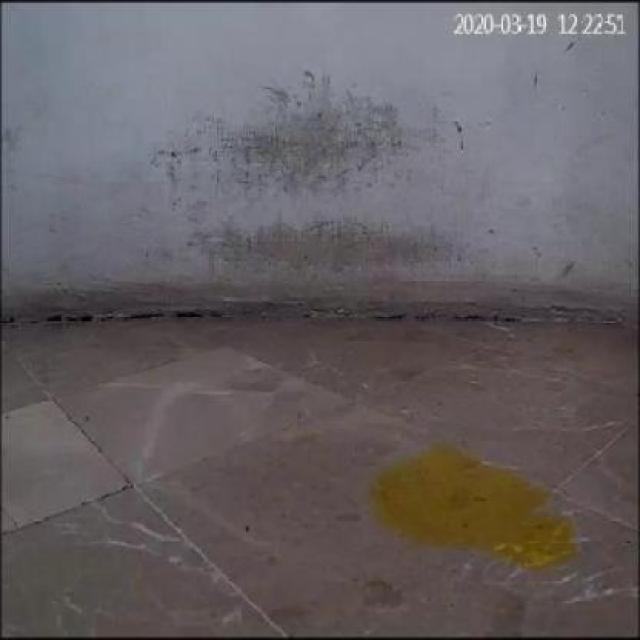spillage: (364, 442, 579, 573)
